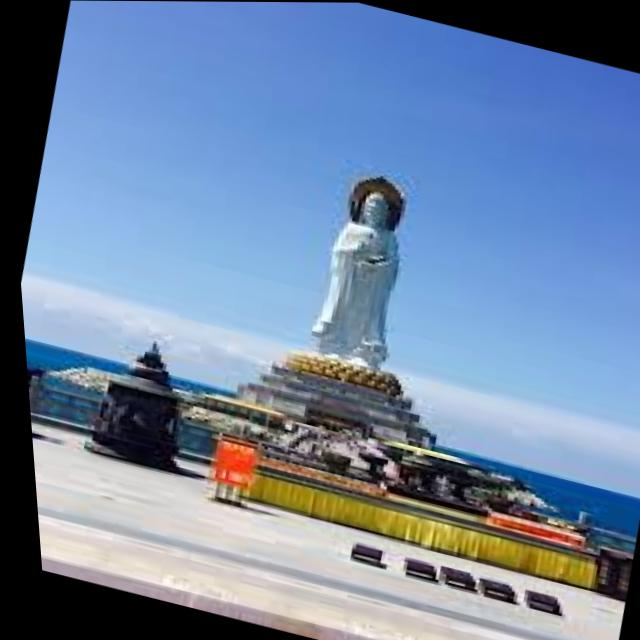Guan Yin: (287, 161, 434, 376)
